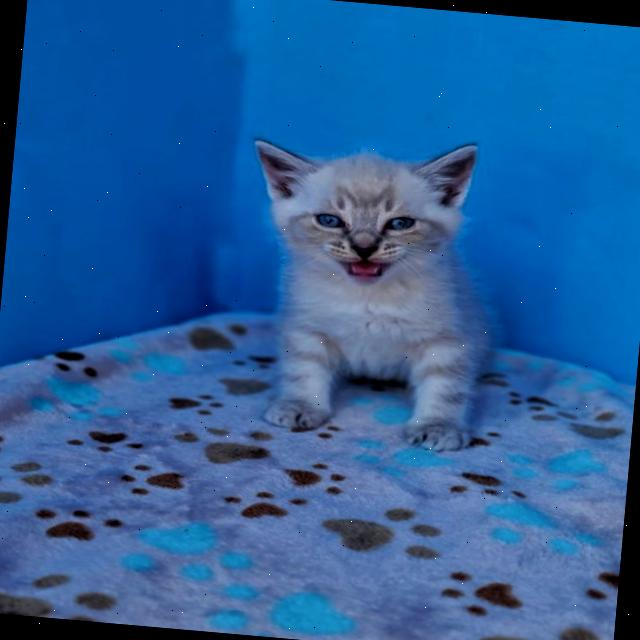siamese_cat: (234, 114, 498, 302)
